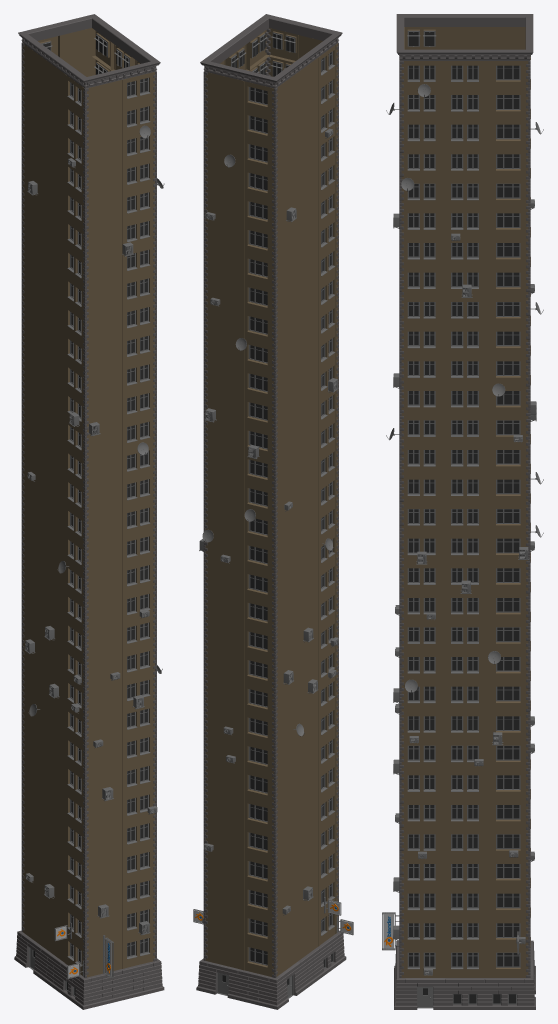
Rendered from buildify_1.0 hedetest bygning4.fbx.
The picture shows the model from 3 angles, left to right: view 1: azimuth 30°, elevation 25°; view 2: azimuth 150°, elevation 25°; view 3: azimuth 270°, elevation 25°; orthographic projection. The views are drawn at different scales.
Visible parts, largest first — view 1: middle_floor_wall_01.337, ground_floor_wall_02.022, middle_floor_wall_01.341, middle_floor_wall_02.310, middle_floor_wall_02.317, middle_floor_wall_02.321, middle_floor_wall_02.307, middle_floor_wall_02.314, middle_floor_wall_02.328, middle_floor_wall_01.363, middle_floor_wall_02.311, middle_floor_wall_02.313 (+158 smaller); view 2: ground_floor_wall_02.020, middle_floor_wall_01.309, middle_floor_wall_01.307, middle_floor_wall_01.320, middle_floor_wall_01.323, middle_floor_wall_01.331, middle_floor_wall_01.336, middle_floor_wall_01.312, middle_floor_wall_01.313, middle_floor_wall_01.316, middle_floor_wall_01.317, middle_floor_wall_01.318 (+156 smaller); view 3: middle_floor_wall_02.355, middle_floor_wall_02.369, middle_floor_wall_02.397, middle_floor_wall_02.341, middle_floor_wall_02.379, middle_floor_wall_02.393, middle_floor_wall_02.383, middle_floor_wall_02.345, middle_floor_wall_02.359, middle_floor_wall_02.373, middle_floor_wall_02.339, middle_floor_wall_02.343 (+94 smaller).
Part boxes in pixels (x1,y1,x2,y2): middle_floor_wall_01.337: [58, 28, 95, 62]; ground_floor_wall_02.022: [121, 962, 154, 999]; middle_floor_wall_01.341: [87, 854, 120, 891]; middle_floor_wall_02.310: [121, 846, 154, 882]; middle_floor_wall_02.317: [121, 645, 154, 682]; middle_floor_wall_02.321: [121, 531, 154, 567]; middle_floor_wall_02.307: [121, 932, 154, 968]; middle_floor_wall_02.314: [121, 732, 154, 768]; middle_floor_wall_02.328: [121, 330, 154, 366]; middle_floor_wall_01.363: [87, 223, 120, 260]; middle_floor_wall_02.311: [121, 818, 154, 854]; middle_floor_wall_02.313: [121, 760, 154, 796]; ground_floor_wall_02.020: [237, 969, 270, 1007]; middle_floor_wall_01.309: [205, 875, 239, 911]; middle_floor_wall_01.307: [205, 933, 239, 969]; middle_floor_wall_01.320: [205, 560, 239, 596]; middle_floor_wall_01.323: [205, 474, 239, 510]; middle_floor_wall_01.331: [205, 244, 239, 280]; middle_floor_wall_01.336: [205, 101, 239, 137]; middle_floor_wall_01.312: [205, 789, 239, 825]; middle_floor_wall_01.313: [205, 761, 239, 796]; middle_floor_wall_01.316: [205, 674, 239, 710]; middle_floor_wall_01.317: [205, 646, 239, 682]; middle_floor_wall_01.318: [205, 617, 239, 653]; middle_floor_wall_02.355: [443, 711, 486, 741]; middle_floor_wall_02.369: [443, 504, 486, 534]; middle_floor_wall_02.397: [443, 90, 486, 120]; middle_floor_wall_02.341: [443, 918, 486, 948]; middle_floor_wall_02.379: [443, 356, 486, 386]; middle_floor_wall_02.393: [443, 149, 486, 179]; middle_floor_wall_02.383: [443, 297, 486, 327]; middle_floor_wall_02.345: [443, 859, 486, 889]; middle_floor_wall_02.359: [443, 652, 486, 682]; middle_floor_wall_02.373: [443, 445, 486, 475]; middle_floor_wall_02.339: [443, 948, 486, 977]; middle_floor_wall_02.343: [443, 889, 486, 918].
Bounding box in the file's own units: 1139 × 9701 × 1488.
